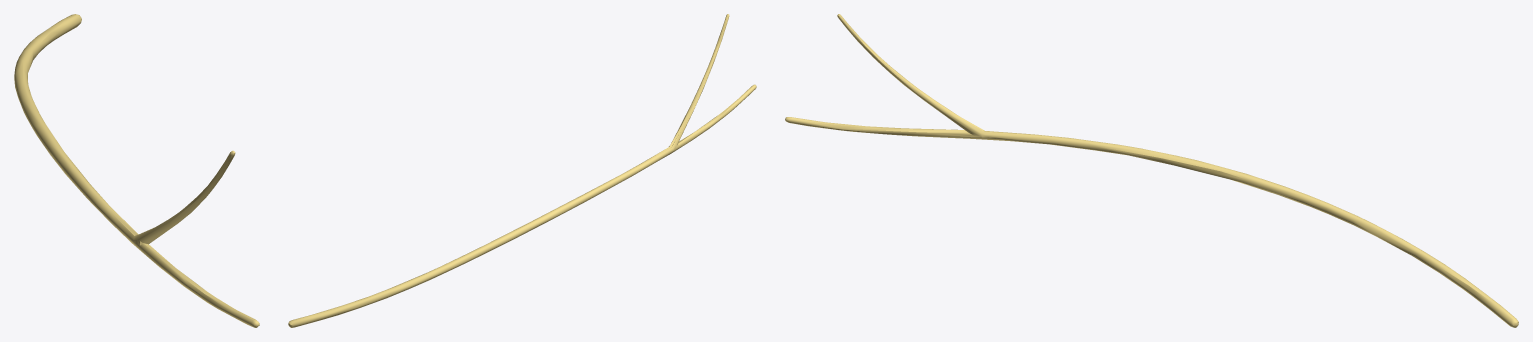
Rendered from fma52784_fj3976.glb.
3 views of the same model, side by side, from view 1: azimuth 30°, elevation 25°; view 2: azimuth 150°, elevation 25°; view 3: azimuth 270°, elevation 25° (orthographic). The views are drawn at different scales.
Visible parts, largest first — view 1: FMA52784_FJ3976; view 2: FMA52784_FJ3976; view 3: FMA52784_FJ3976.
Boxes of the visible parts, left/top/right/bottom form: FMA52784_FJ3976: left=14, top=14, right=259, bottom=327; FMA52784_FJ3976: left=288, top=14, right=756, bottom=327; FMA52784_FJ3976: left=785, top=14, right=1518, bottom=327.
Bounding box in the file's own units: 0.0129 × 0.0108 × 0.0349.
